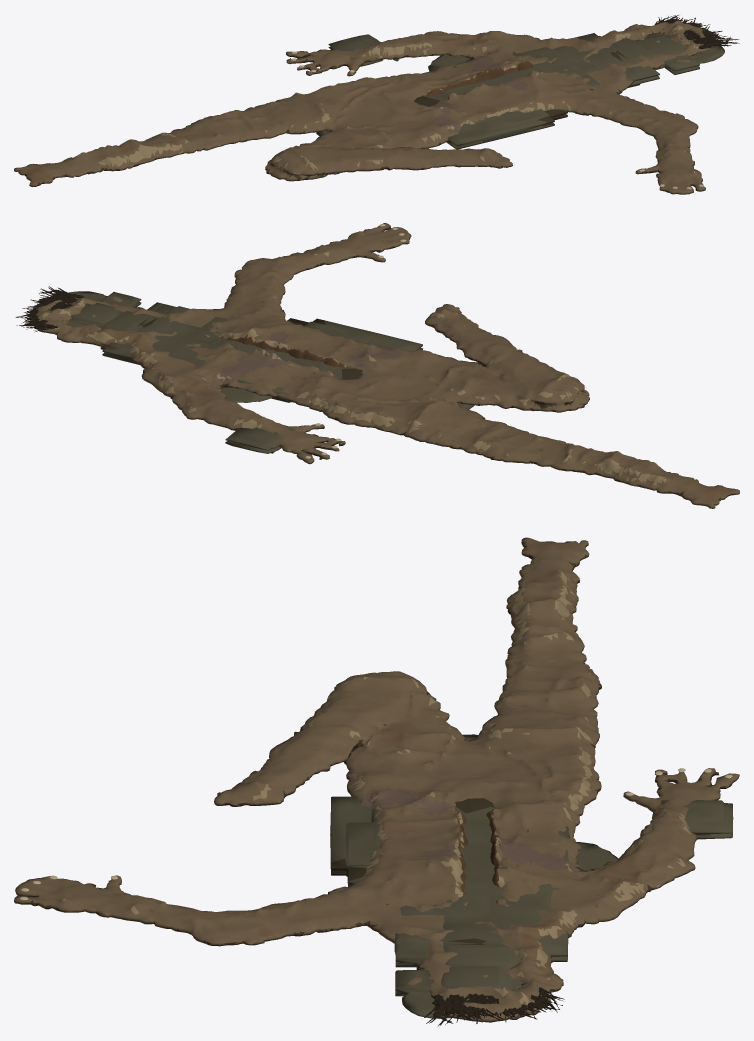
File: skin_shed.glb
The picture shows the model from 3 angles, top to bottom: view 1: azimuth 30°, elevation 25°; view 2: azimuth 150°, elevation 25°; view 3: azimuth 270°, elevation 25°; orthographic projection. The views are drawn at different scales.
Visible parts, largest first — view 1: haut, lache, haar; view 2: haut, lache, haar; view 3: haut, lache, haar.
Part boxes in pixels (x1,y1,x2,y2): haut: (14, 20, 715, 194); lache: (316, 33, 724, 149); haar: (654, 15, 739, 48); haut: (29, 223, 739, 508); lache: (68, 291, 474, 453); haar: (15, 286, 84, 332); haut: (14, 537, 739, 1022); lache: (330, 734, 733, 1018); haar: (424, 987, 564, 1025).
Bounding box in the file's own units: 2.16 × 0.0809 × 1.35.
